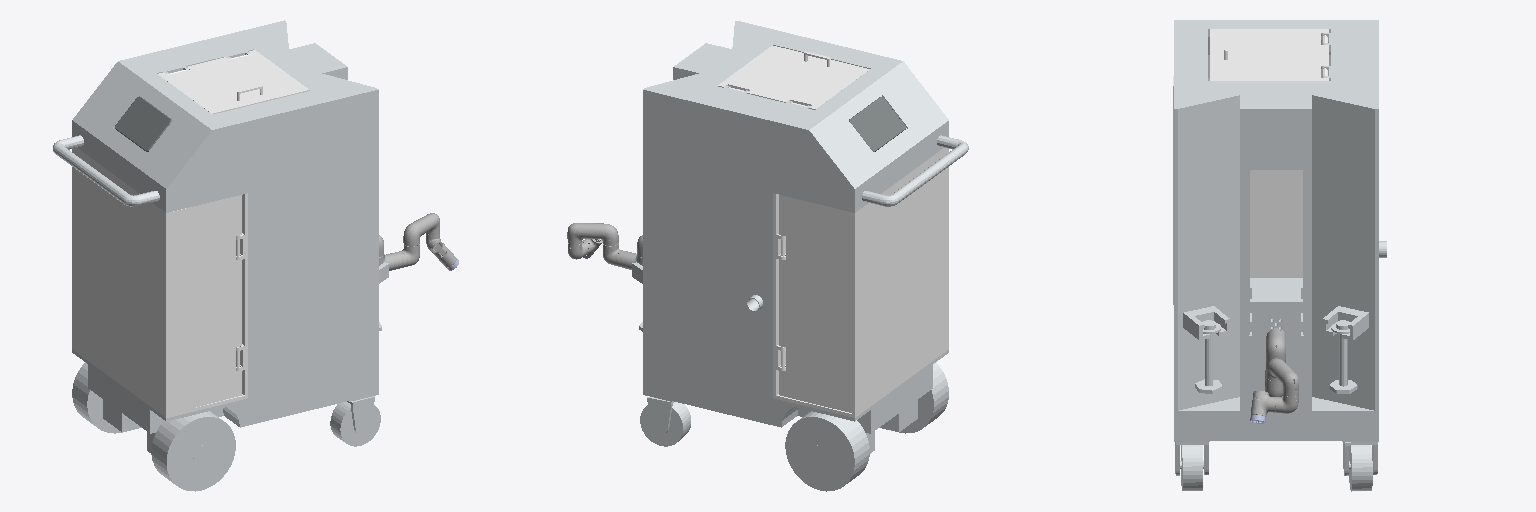
--- Facts derived from the render (not from the file) ---
3 views of the same robot in one strip: view 1: azimuth 30°, elevation 25°; view 2: azimuth 150°, elevation 25°; view 3: azimuth 270°, elevation 25° (orthographic).
Robot: trolley_arm_description — 30 links, 29 joints (6 revolute, 1 continuous, 1 prismatic, 21 fixed); root link base_footprint; default pose: all joints at 0.
Visible links, largest first — view 1: surrounding-frame, door-2, compartment-2, compartment-1, base_link, cover-door, back_wheel_2, tablet, handle, back_wheel_1, front_wheel_1, guiding_frame-2 (+4 smaller); view 2: surrounding-frame, door-1, compartment-1, compartment-2, base_link, cover-door, back_wheel_1, tablet, handle, back_wheel_2, guiding_frame-2, front_wheel_2 (+4 smaller); view 3: surrounding-frame, guiding_frame-2, base_link, cover-door, tools, mount-box, compartment-1, compartment-2, front_wheel_2, front_wheel_1, j3, j1.
Boxes of the visible links, left/top/right/bottom form: surrounding-frame: left=72, top=20, right=378, bottom=397; door-2: left=170, top=195, right=241, bottom=413; compartment-2: left=119, top=179, right=247, bottom=417; compartment-1: left=72, top=148, right=118, bottom=382; base_link: left=72, top=349, right=378, bottom=433; cover-door: left=158, top=50, right=309, bottom=113; back_wheel_2: left=151, top=411, right=235, bottom=491; tablet: left=115, top=96, right=171, bottom=151; handle: left=53, top=135, right=159, bottom=206; back_wheel_1: left=72, top=362, right=121, bottom=433; front_wheel_1: left=330, top=402, right=380, bottom=446; guiding_frame-2: left=283, top=43, right=347, bottom=79; surrounding-frame: left=643, top=21, right=948, bottom=397; door-1: left=779, top=195, right=851, bottom=412; compartment-1: left=773, top=179, right=901, bottom=417; compartment-2: left=902, top=148, right=948, bottom=382; base_link: left=643, top=350, right=948, bottom=433; cover-door: left=718, top=45, right=869, bottom=109; back_wheel_1: left=785, top=411, right=869, bottom=491; tablet: left=849, top=97, right=905, bottom=151; handle: left=862, top=135, right=968, bottom=206; back_wheel_2: left=899, top=363, right=948, bottom=433; guiding_frame-2: left=673, top=43, right=737, bottom=79; front_wheel_2: left=640, top=402, right=690, bottom=446; surrounding-frame: left=1174, top=20, right=1386, bottom=410; guiding_frame-2: left=1240, top=92, right=1311, bottom=410; base_link: left=1174, top=397, right=1378, bottom=440; cover-door: left=1210, top=29, right=1328, bottom=80; tools: left=1183, top=306, right=1368, bottom=393; mount-box: left=1249, top=285, right=1303, bottom=346; compartment-1: left=1276, top=170, right=1302, bottom=277; compartment-2: left=1208, top=78, right=1275, bottom=277; front_wheel_2: left=1349, top=445, right=1372, bottom=491; front_wheel_1: left=1175, top=445, right=1203, bottom=490; j3: left=1266, top=358, right=1298, bottom=396; j1: left=1266, top=328, right=1285, bottom=362.
Bounding box of the posed robot: 1.11 × 0.5217 × 1.07 m (x, y, z).
28 mesh visuals loaded from 29 distinct referenced files (28 binary STL); not drawn: 1 (reference not matched to a file when rendering).

robot.urdf — trolley_arm_description:
<?xml version="1.0" ?>
<!-- =================================================================================== -->
<!-- |    This document was autogenerated by xacro from [local-path]/Developer/ros_workspaces/hivebot_ws/src/trolley_arm_description/urdf/trolley_arm.urdf.xacro | -->
<!-- |    EDITING THIS FILE BY HAND IS NOT RECOMMENDED                                 | -->
<!-- =================================================================================== -->
<robot name="trolley_arm_description">
    <link name="base_footprint" />
    <joint name="base_joint" type="fixed">
        <origin rpy="0 0 0" xyz="0 0 0.05" />
        <parent link="base_footprint" />
        <child link="base_link" />
    </joint>
    <link name="base_link">

        <inertial>
            <origin rpy="0 0 0" xyz="0.0235732763735559 -1.16156711654192E-16 -0.0393476182287232" />
            <mass value="63.3540430981409" />
            <inertia ixx="1.19803483723971" ixy="3.94354928014663E-16" ixz="0.00926065111324139" iyy="2.11869396240118" iyz="2.70482966665085E-18" izz="3.24789298834746" />
        </inertial>

        <visual>
            <origin rpy="0 0 0" xyz="0 0 0" />
            <geometry>
                <mesh filename="package://hivebot_trolley/meshes/base_link.STL" />
            </geometry>
            <material name="">
                <color rgba="0.898039215686275 0.917647058823529 0.929411764705882 1" />
            </material>
        </visual>
        <collision>
            <origin rpy="0 0 0" xyz="0 0 0" />
            <geometry>
                <mesh filename="package://hivebot_trolley/meshes/base_link.STL" />
            </geometry>
        </collision>
    </link>
    <joint name="compartment-2-to-base" type="fixed">
        <origin rpy="0 0 0" xyz="-0.2 -0.125 0" />
        <parent link="base_link" />
        <child link="compartment-2" />
        <axis xyz="0 0 0" />
    </joint>
    <link name="front_wheel_mount_plate_1">

        <inertial>
            <origin rpy="0 0 0" xyz="0 0 0.00372376098180309" />
            <mass value="0.0885122104446696" />
            <inertia ixx="4.96589186338358E-05" ixy="8.76460525250229E-21" ixz="4.57370748529084E-22" iyy="4.96589186338358E-05" iyz="-1.38813531491213E-23" izz="9.88794947001013E-05" />
        </inertial>

        <visual>
            <origin rpy="0 0 0" xyz="0 0 0" />
            <geometry>
                <mesh filename="package://hivebot_trolley/meshes/front_wheel_mount_plate_1.STL" />
            </geometry>
            <material name="">
                <color rgba="0.898039215686275 0.917647058823529 0.929411764705882 1" />
            </material>
        </visual>
        <collision>
            <origin rpy="0 0 0" xyz="0 0 0" />
            <geometry>
                <mesh filename="package://hivebot_trolley/meshes/front_wheel_mount_plate_1.STL" />
            </geometry>
        </collision>
    </link>
    <joint name="front_wheel_mount_plate_1_tobase" type="fixed">
        <origin rpy="0 0 0" xyz="0.28 -0.205 -0.086" />
        <parent link="base_link" />
        <child link="front_wheel_mount_plate_1" />
        <axis xyz="0 0 0" />
    </joint>
    <link name="front_wheel_holder_1">

        <inertial>
            <origin rpy="0 0 0" xyz="0 -5.55111512312578E-17 -0.0353498305391301" />
            <mass value="0.40765592096642" />
            <inertia ixx="0.000762776791330026" ixy="1.03138220220553E-05" ixz="6.91311896835273E-20" iyy="0.000501675770186767" iyz="-1.75192826322455E-19" izz="0.000528106575482838" />
        </inertial>

        <visual>
            <origin rpy="0 0 0" xyz="0 0 0" />
            <geometry>
                <mesh filename="package://hivebot_trolley/meshes/front_wheel_holder_1.STL" />
            </geometry>
            <material name="">
                <color rgba="0.898039215686275 0.917647058823529 0.929411764705882 1" />
            </material>
        </visual>
        <collision>
            <origin rpy="0 0 0" xyz="0 0 0" />
            <geometry>
                <mesh filename="package://hivebot_trolley/meshes/front_wheel_holder_1.STL" />
            </geometry>
        </collision>
    </link>
    <joint name="front_wheel_holder_1_toplate" type="fixed">
        <origin rpy="0 0 0" xyz="0 0 0" />
        <parent link="front_wheel_mount_plate_1" />
        <child link="front_wheel_holder_1" />
        <axis xyz="0 0 -1" />
    </joint>
    <link name="front_wheel_1">

        <inertial>
            <origin rpy="0 0 0" xyz="5.55111512312578E-17 8.32667268468867E-17 -5.55111512312578E-17" />
            <mass value="1.73558464244813" />
            <inertia ixx="0.00211027858785498" ixy="-5.2803822366633E-05" ixz="1.94419187005969E-19" iyy="0.00344704122644933" iyz="-2.97963645002492E-19" izz="0.00210819601428248" />
        </inertial>

        <visual>
            <origin rpy="0 0 0" xyz="0 0 0" />
            <geometry>
                <mesh filename="package://hivebot_trolley/meshes/front_wheel_1.STL" />
            </geometry>
            <material name="">
                <color rgba="0.898039215686275 0.917647058823529 0.929411764705882 1" />
            </material>
        </visual>
        <collision>
            <origin rpy="0 0 0" xyz="0 0 0" />
            <geometry>
                <mesh filename="package://hivebot_trolley/meshes/front_wheel_1.STL" />
            </geometry>
        </collision>
    </link>
    <joint name="front_wheel_1_to_holder" type="fixed">
        <origin rpy="0 0 0" xyz="0 0 -0.081" />
        <parent link="front_wheel_holder_1" />
        <child link="front_wheel_1" />
        <axis xyz="-0.0394091875345171 0.99922315622581 0" />
    </joint>
    <link name="front_wheel_mount_plate_2">

        <inertial>
            <origin rpy="0 0 0" xyz="0 -2.77555756156289E-17 0.00372376098180309" />
            <mass value="0.0885122104446697" />
            <inertia ixx="4.96589186338359E-05" ixy="1.33252491072572E-20" ixz="1.0447510163914E-22" iyy="4.96589186338359E-05" iyz="6.3556804032152E-22" izz="9.88794947001014E-05" />
        </inertial>

        <visual>
            <origin rpy="0 0 0" xyz="0 0 0" />
            <geometry>
                <mesh filename="package://hivebot_trolley/meshes/front_wheel_mount_plate_2.STL" />
            </geometry>
            <material name="">
                <color rgba="0.898039215686275 0.917647058823529 0.929411764705882 1" />
            </material>
        </visual>
        <collision>
            <origin rpy="0 0 0" xyz="0 0 0" />
            <geometry>
                <mesh filename="package://hivebot_trolley/meshes/front_wheel_mount_plate_2.STL" />
            </geometry>
        </collision>
    </link>
    <joint name="front_wheel_mount_plate_2_tobase" type="fixed">
        <origin rpy="0 0 0" xyz="0.28 0.205 -0.086" />
        <parent link="base_link" />
        <child link="front_wheel_mount_plate_2" />
        <axis xyz="0 0 0" />
    </joint>
    <link name="front_wheel_holder_2">

        <inertial>
            <origin rpy="0 0 0" xyz="-5.55111512312578E-17 -5.55111512312578E-17 -0.0353498305391302" />
            <mass value="0.40765592096642" />
            <inertia ixx="0.00076152629456158" ixy="2.07681767546495E-05" ixz="-6.15417341469107E-20" iyy="0.000502926266955213" iyz="3.73082590857221E-19" izz="0.000528106575482838" />
        </inertial>

        <visual>
            <origin rpy="0 0 0" xyz="0 0 0" />
            <geometry>
                <mesh filename="package://hivebot_trolley/meshes/front_wheel_holder_2.STL" />
            </geometry>
            <material name="">
                <color rgba="0.898039215686275 0.917647058823529 0.929411764705882 1" />
            </material>
        </visual>
        <collision>
            <origin rpy="0 0 0" xyz="0 0 0" />
            <geometry>
                <mesh filename="package://hivebot_trolley/meshes/front_wheel_holder_2.STL" />
            </geometry>
        </collision>
    </link>
    <joint name="front_wheel_holder_2_toplate" type="fixed">
        <origin rpy="0 0 0" xyz="0 0 0" />
        <parent link="front_wheel_mount_plate_2" />
        <child link="front_wheel_holder_2" />
        <axis xyz="0 0 -1" />
    </joint>
    <link name="front_wheel_2">

        <inertial>
            <origin rpy="0 0 0" xyz="5.55111512312578E-17 0 0" />
            <mass value="1.73558464244813" />
            <inertia ixx="0.00211668077407555" ixy="-0.000106327132064745" ixz="-2.97271341358694E-19" iyy="0.00344063904022875" iyz="-1.72056927832268E-21" izz="0.00210819601428248" />
        </inertial>

        <visual>
            <origin rpy="0 0 0" xyz="0 0 0" />
            <geometry>
                <mesh filename="package://hivebot_trolley/meshes/front_wheel_2.STL" />
            </geometry>
            <material name="">
                <color rgba="0.898039215686275 0.917647058823529 0.929411764705882 1" />
            </material>
        </visual>
        <collision>
            <origin rpy="0 0 0" xyz="0 0 0" />
            <geometry>
                <mesh filename="package://hivebot_trolley/meshes/front_wheel_2.STL" />
            </geometry>
        </collision>
    </link>
    <joint name="front_wheel_2_toholder" type="fixed">
        <origin rpy="0 0 0" xyz="0 0 -0.081" />
        <parent link="front_wheel_holder_2" />
        <child link="front_wheel_2" />
        <axis xyz="0.0795457683033873 -0.996831214772603 0" />
    </joint>
    <link name="back_wheel_holder_2">

        <inertial>
            <origin rpy="0 0 0" xyz="-2.77555756156289E-17 0.12370581952403 2.77555756156289E-17" />
            <mass value="3.69062219624929" />
            <inertia ixx="0.00912658772080383" ixy="8.63502453250557E-19" ixz="-5.57023878196132E-19" iyy="0.00672881943632791" iyz="-2.81940192519475E-19" izz="0.0103145877208038" />
        </inertial>

        <visual>
            <origin rpy="0 0 0" xyz="0 0 0" />
            <geometry>
                <mesh filename="package://hivebot_trolley/meshes/back_wheel_holder_2.STL" />
            </geometry>
            <material name="">
                <color rgba="0.898039215686275 0.917647058823529 0.929411764705882 1" />
            </material>
        </visual>
        <collision>
            <origin rpy="0 0 0" xyz="0 0 0" />
            <geometry>
                <mesh filename="package://hivebot_trolley/meshes/back_wheel_holder_2.STL" />
            </geometry>
        </collision>
    </link>
    <joint name="back_wheel_holder_2_tobase" type="fixed">
        <origin rpy="0 0 0" xyz="-0.2185 -0.25 -0.13" />
        <parent link="base_link" />
        <child link="back_wheel_holder_2" />
        <axis xyz="0 0 0" />
    </joint>
    <link name="back_wheel_2">

        <inertial>
            <origin rpy="0 0 0" xyz="-5.55111512312578E-17 0.0399999999999996 4.16333634234434E-16" />
            <mass value="7.27255451520401" />
            <inertia ixx="0.0256368152469609" ixy="-3.1162102280413E-18" ixz="-1.17965325757309E-22" iyy="0.0435162390110376" iyz="2.68645908030935E-18" izz="0.0256368152469609" />
        </inertial>

        <visual>
            <origin rpy="0 0 0" xyz="0 0 0" />
            <geometry>
                <mesh filename="package://hivebot_trolley/meshes/back_wheel_2.STL" />
            </geometry>
            <material name="">
                <color rgba="0.898039215686275 0.917647058823529 0.929411764705882 1" />
            </material>
        </visual>
        <collision>
            <origin rpy="0 0 0" xyz="0 0 0" />
            <geometry>
                <mesh filename="package://hivebot_trolley/meshes/back_wheel_2.STL" />
            </geometry>
        </collision>
    </link>
    <joint name="back_wheel_2_toholder" type="fixed">
        <origin rpy="0 0 0" xyz="0 0 0" />
        <parent link="back_wheel_holder_2" />
        <child link="back_wheel_2" />
        <axis xyz="0 1 0" />
    </joint>
    <link name="back_wheel_holder_1">

        <inertial>
            <origin rpy="0 0 0" xyz="2.77555756156289E-17 -0.12370581952403 -2.77555756156289E-17" />
            <mass value="3.69062219624929" />
            <inertia ixx="0.00912658772080382" ixy="-5.58383894595012E-19" ixz="8.67342168411457E-19" iyy="0.00672881943632791" iyz="6.69411038953511E-20" izz="0.0103145877208038" />
        </inertial>

        <visual>
            <origin rpy="0 0 0" xyz="0 0 0" />
            <geometry>
                <mesh filename="package://hivebot_trolley/meshes/back_wheel_holder_1.STL" />
            </geometry>
            <material name="">
                <color rgba="0.898039215686275 0.917647058823529 0.929411764705882 1" />
            </material>
        </visual>
        <collision>
            <origin rpy="0 0 0" xyz="0 0 0" />
            <geometry>
                <mesh filename="package://hivebot_trolley/meshes/back_wheel_holder_1.STL" />
            </geometry>
        </collision>
    </link>
    <joint name="back_wheel_holder_1_tobase" type="fixed">
        <origin rpy="0 0 0" xyz="-0.2185 0.25 -0.13" />
        <parent link="base_link" />
        <child link="back_wheel_holder_1" />
        <axis xyz="0 0 0" />
    </joint>
    <link name="back_wheel_1">

        <inertial>
            <origin rpy="0 0 0" xyz="-5.55111512312578E-17 -0.04 0" />
            <mass value="7.27255451520401" />
            <inertia ixx="0.0256368152469609" ixy="-2.25459743055601E-18" ixz="1.57683124065269E-19" iyy="0.0435162390110376" iyz="4.84744605090424E-18" izz="0.0256368152469609" />
        </inertial>

        <visual>
            <origin rpy="0 0 0" xyz="0 0 0" />
            <geometry>
                <mesh filename="package://hivebot_trolley/meshes/back_wheel_1.STL" />
            </geometry>
            <material name="">
                <color rgba="0.898039215686275 0.917647058823529 0.929411764705882 1" />
            </material>
        </visual>
        <collision>
            <origin rpy="0 0 0" xyz="0 0 0" />
            <geometry>
                <mesh filename="package://hivebot_trolley/meshes/back_wheel_1.STL" />
            </geometry>
        </collision>
    </link>
    <joint name="back_wheel_1_toholder" type="continuous">
        <origin rpy="0 0 0" xyz="0 0 0" />
        <parent link="back_wheel_holder_1" />
        <child link="back_wheel_1" />
        <axis xyz="0 -1 0" />
        <dynamics damping="0.7" friction="10"/>
    </joint>
    <link name="guiding_frame-2">

        <inertial>
            <origin rpy="0 0 0" xyz="5.55111512312578E-17 -1.36557830061531E-16 -0.52082343378767" />
            <mass value="15.546168" />
            <inertia ixx="1.04667928751446" ixy="-1.21627735877006E-18" ixz="9.73209658663459E-17" iyy="0.99672874017046" iyz="1.5679887871354E-16" izz="0.076308340032" />
        </inertial>

        <visual>
            <origin rpy="0 0 0" xyz="0 0 0" />
            <geometry>
                <mesh filename="package://hivebot_trolley/meshes/guiding_frame-2.STL" />
            </geometry>
            <material name="">
                <color rgba="0.898039215686275 0.917647058823529 0.929411764705882 1" />
            </material>
        </visual>
        <collision>
            <origin rpy="0 0 0" xyz="0 0 0" />
            <geometry>
                <mesh filename="package://hivebot_trolley/meshes/guiding_frame-2.STL" />
            </geometry>
        </collision>
    </link>
    <joint name="guiding-frame-2-tobase" type="fixed">
        <origin rpy="0 0 0" xyz="0.275 0 0.81" />
        <parent link="base_link" />
        <child link="guiding_frame-2" />
        <axis xyz="0 0 0" />
    </joint>
    <link name="mount-box">

        <inertial>
            <origin rpy="0 0 0" xyz="-3.33066907387547E-16 -5.43166688588743E-17 8.31973379078477E-13" />
            <mass value="3.88364559868246" />
            <inertia ixx="0.00932475709657866" ixy="-3.73105112956337E-19" ixz="-7.61186554870903E-19" iyy="0.00785069349852472" iyz="3.77869461474261E-19" izz="0.00784612520652471" />
        </inertial>

        <visual>
            <origin rpy="0 0 0" xyz="0 0 0" />
            <geometry>
                <mesh filename="package://hivebot_trolley/meshes/mount-box.STL" />
            </geometry>
            <material name="">
                <color rgba="0.898039215686275 0.917647058823529 0.929411764705882 1" />
            </material>
        </visual>
        <collision>
            <origin rpy="0 0 0" xyz="0 0 0" />
            <geometry>
                <mesh filename="package://hivebot_trolley/meshes/mount-box.STL" />
            </geometry>
        </collision>
    </link>
    <joint name="mount_box_to_frame" type="prismatic">
        <origin rpy="0 0 0" xyz="0 0 -0.57843375382" />
        <parent link="guiding_frame-2" />
        <child link="mount-box" />
        <axis xyz="0 0 1" />
        <limit effort="100" lower="0" upper="0.48" velocity="1" />
        <dynamics damping="0.7" friction="10"/>
    </joint>
    <link name="surrounding-frame">

        <inertial>
            <origin rpy="0 0 0" xyz="0.0846729181735194 0.000767773564878785 0.214525253910696" />
            <mass value="82.7476434299921" />
            <inertia ixx="3.78200016445154" ixy="-0.00222325591596084" ixz="-0.0201090148476572" iyy="3.39224065150316" iyz="-0.00236895559099694" izz="1.86426383436205" />
        </inertial>

        <visual>
            <origin rpy="0 0 0" xyz="0 0 0" />
            <geometry>
                <mesh filename="package://hivebot_trolley/meshes/surrounding-frame.STL" />
            </geometry>
            <material name="">
                <color rgba="0.898039215686275 0.917647058823529 0.929411764705882 1" />
            </material>
        </visual>
        <collision>
            <origin rpy="0 0 0" xyz="0 0 0" />
            <geometry>
                <mesh filename="package://hivebot_trolley/meshes/surrounding-frame.STL" />
            </geometry>
        </collision>
    </link>
    <joint name="surrounding-frame-to-base" type="fixed">
        <origin rpy="0 0 0" xyz="0.0749999999999998 0 0.16" />
        <parent link="base_link" />
        <child link="surrounding-frame" />
        <axis xyz="0 0 0" />
    </joint>
    <link name="cover-door">

        <inertial>
            <origin rpy="0 0 0" xyz="-0.150040997767576 -0.137889670402826 0.000346830907110185" />
            <mass value="2.05892920065877" />
            <inertia ixx="0.0140981800413022" ixy="-8.61535975977684E-06" ixz="2.2775979768361E-06" iyy="0.0153884352208601" iyz="4.71234485426862E-05" izz="0.0293377145153787" />
        </inertial>

        <visual>
            <origin rpy="0 0 0" xyz="0 0 0" />
            <geometry>
                <mesh filename="package://hivebot_trolley/meshes/cover-door.STL" />
            </geometry>
            <material name="">
                <color rgba="1 1 1 0.3" />
            </material>
        </visual>
        <collision>
            <origin rpy="0 0 0" xyz="0 0 0" />
            <geometry>
                <mesh filename="package://hivebot_trolley/meshes/cover-door.STL" />
            </geometry>
        </collision>
    </link>
    <joint name="cover-door-to-frame" type="fixed">
        <origin rpy="0 0 0" xyz="0.0899999999999999 0.118551612567476 0.64" />
        <parent link="surrounding-frame" />
        <child link="cover-door" />
        <axis xyz="-1 0 0" />
    </joint>
    <link name="tablet">

        <inertial>
            <origin rpy="0 0 0" xyz="-0.00212538959044117 -1.36883635898138E-05 0.00206874607906293" />
            <mass value="0.886766298135032" />
            <inertia ixx="0.00278972059920181" ixy="1.27724561345949E-07" ixz="-0.000432117490733407" iyy="0.000869274675297478" iyz="1.28403830937449E-07" izz="0.00278929527162149" />
        </inertial>

        <visual>
            <origin rpy="0 0 0" xyz="0 0 0" />
            <geometry>
                <mesh filename="package://hivebot_trolley/meshes/tablet.STL" />
            </geometry>
            <material name="">
                <color rgba="0.529411764705882 0.549019607843137 0.549019607843137 1" />
            </material>
        </visual>
        <collision>
            <origin rpy="0 0 0" xyz="0 0 0" />
            <geometry>
                <mesh filename="package://hivebot_trolley/meshes/tablet.STL" />
            </geometry>
        </collision>
    </link>
    <joint name="tablet-to-frame" type="fixed">
        <origin rpy="0 0 0" xyz="-0.323639610306789 0.001 0.579289321881345" />
        <parent link="surrounding-frame" />
        <child link="tablet" />
        <axis xyz="0 0 0" />
    </joint>
    <link name="handle">

        <inertial>
            <origin rpy="0 0 0" xyz="-0.0683128872678795 0.2 0" />
            <mass value="1.03600411126002" />
            <inertia ixx="0.0211986755913615" ixy="-3.76213226232454E-18" ixz="5.2805489928396E-20" iyy="0.000609084661143678" iyz="-5.58622665846924E-19" izz="0.0216912097899884" />
        </inertial>

        <visual>
            <origin rpy="0 0 0" xyz="0 0 0" />
            <geometry>
                <mesh filename="package://hivebot_trolley/meshes/handle.STL" />
            </geometry>
            <material name="">
                <color rgba="0.898039215686275 0.917647058823529 0.929411764705882 1" />
            </material>
        </visual>
        <collision>
            <origin rpy="0 0 0" xyz="0 0 0" />
            <geometry>
                <mesh filename="package://hivebot_trolley/meshes/handle.STL" />
            </geometry>
        </collision>
    </link>
    <joint name="handle-to-frame" type="fixed">
        <origin rpy="0 0 0" xyz="-0.4 -0.2 0.47" />
        <parent link="surrounding-frame" />
        <child link="handle" />
        <axis xyz="0 0 0" />
    </joint>
    <link name="tools">

        <inertial>
            <origin rpy="0 0 0" xyz="0.0135685512178612 -0.226707429071848 0.000429751102776738" />
            <mass value="1.10101723384343" />
            <inertia ixx="0.00181676017997894" ixy="-5.7000778196603E-19" ixz="2.91688343620181E-05" iyy="0.00170795242556321" iyz="-4.21950089664413E-19" izz="0.00133528189029824" />
        </inertial>

        <visual>
            <origin rpy="0 0 0" xyz="0 0 0" />
            <geometry>
                <mesh filename="package://hivebot_trolley/meshes/tools.STL" />
            </geometry>
            <material name="">
                <color rgba="0.898039215686275 0.917647058823529 0.929411764705882 1" />
            </material>
        </visual>
        <collision>
            <origin rpy="0 0 0" xyz="0 0 0" />
            <geometry>
                <mesh filename="package://hivebot_trolley/meshes/tools.STL" />
            </geometry>
        </collision>
    </link>
    <joint name="tools-to-frame" type="fixed">
        <origin rpy="0 0 0" xyz="0.243049636115999 0.226707429071858 0.0599999999999998" />
        <parent link="surrounding-frame" />
        <child link="tools" />
        <axis xyz="0 0 0" />
    </joint>
    <link name="compartment-1">

        <inertial>
            <origin rpy="0 0 0" xyz="0.0159462607609362 -0.00910725247573026 0.274676056153122" />
            <mass value="1.05739476651221" />
            <inertia ixx="0.033888709501066" ixy="1.08388147884056E-17" ixz="-1.95856102547443E-19" iyy="0.0369783137022633" iyz="0.000886251680853717" izz="0.0144797683018268" />
        </inertial>

        <visual>
            <origin rpy="0 0 0" xyz="0 0 0" />
            <geometry>
                <mesh filename="package://hivebot_trolley/meshes/compartment-1.STL" />
            </geometry>
            <material name="">
                <color rgba="1 1 1 1" />
            </material>
        </visual>
        <collision>
            <origin rpy="0 0 0" xyz="0 0 0" />
            <geometry>
                <mesh filename="package://hivebot_trolley/meshes/compartment-1.STL" />
            </geometry>
        </collision>
    </link>
    <joint name="compartment-1-tobase" type="fixed">
        <origin rpy="0 0 0" xyz="-0.2 0.125 0" />
        <parent link="base_link" />
        <child link="compartment-1" />
        <axis xyz="0 0 0" />
    </joint>
    <link name="door-1">

        <inertial>
            <origin rpy="0 0 0" xyz="-0.103829601822913 0.000286037081769358 0.295291950301883" />
            <mass value="0.209666054570214" />
            <inertia ixx="0.00608838595202948" ixy="2.38341449388362E-06" ixz="-6.35562463955881E-06" iyy="0.00695354335829767" iyz="1.75089212787349E-08" izz="0.000868657642586339" />
        </inertial>

        <visual>
            <origin rpy="0 0 0" xyz="0 0 0" />
            <geometry>
                <mesh filename="package://hivebot_trolley/meshes/door-1.STL" />
            </geometry>
            <material name="">
                <color rgba="1 1 1 1" />
            </material>
        </visual>
        <collision>
            <origin rpy="0 0 0" xyz="0 0 0" />
            <geometry>
                <mesh filename="package://hivebot_trolley/meshes/door-1.STL" />
            </geometry>
        </collision>
    </link>
    <joint name="door-1-to-compartment" type="fixed">
        <origin rpy="0 0 0" xyz="0.0999999999999994 0.115 0.00999999999999993" />
        <parent link="compartment-1" />
        <child link="door-1" />
        <axis xyz="0 0 1" />
    </joint>
    <link name="compartment-2">

        <inertial>
            <origin rpy="0 0 0" xyz="0.0159462607609365 0.00910725247573027 0.274676056153122" />
            <mass value="1.05739476651221" />
            <inertia ixx="0.033888709501066" ixy="1.20681831383722E-17" ixz="3.61843005233635E-18" iyy="0.0369783137022634" iyz="-0.000886251680853721" izz="0.0144797683018268" />
        </inertial>

        <visual>
            <origin rpy="0 0 0" xyz="0 0 0" />
            <geometry>
                <mesh filename="package://hivebot_trolley/meshes/compartment-2.STL" />
            </geometry>
            <material name="">
                <color rgba="1 1 1 1" />
            </material>
        </visual>
        <collision>
            <origin rpy="0 0 0" xyz="0 0 0" />
            <geometry>
                <mesh filename="package://hivebot_trolley/meshes/compartment-2.STL" />
            </geometry>
        </collision>
    </link>
    <link name="door-2">

        <inertial>
            <origin rpy="0 0 0" xyz="-0.103778785036784 -0.00326064536650364 0.295291950301883" />
            <mass value="0.209666054570215" />
            <inertia ixx="0.00608923261026625" ixy="-2.71561499219606E-05" ixz="-6.35251403899478E-06" iyy="0.00695269670006093" iyz="-1.99590845658357E-07" izz="0.000868657642586341" />
        </inertial>

        <visual>
            <origin rpy="0 0 0" xyz="0 0 0" />
            <geometry>
                <mesh filename="package://hivebot_trolley/meshes/door-2.STL" />
            </geometry>
            <material name="">
                <color rgba="1 1 1 1" />
            </material>
        </visual>
        <collision>
            <origin rpy="0 0 0" xyz="0 0 0" />
            <geometry>
                <mesh filename="package://hivebot_trolley/meshes/door-2.STL" />
            </geometry>
        </collision>
    </link>
    <joint name="door-2-to-compartment" type="fixed">
        <origin rpy="0 0 0" xyz="0.1 -0.115 0.00999999999999982" />
        <parent link="compartment-2" />
        <child link="door-2" />
        <axis xyz="0 0 1" />
    </joint>
    <link name="arm_base">

        <inertial>
            <origin rpy="0 0 0" xyz="-0.00314201374155656 -0.000316576969441296 0.0310618347596631" />
            <mass value="0.92353" />
            <inertia ixx="0.00084401" ixy="-7.3631E-06" ixz="1.4091E-06" iyy="0.00083129" iyz="-4.0382E-06" izz="0.0010931" />
        </inertial>

        <visual>
            <origin rpy="0 0 0" xyz="0 0 0" />
            <geometry>
                <mesh filename="package://mycobot_320/urdf/320_urdf/meshes/arm_base.STL" />
            </geometry>
            <material name="">
                <color rgba="0.752941176470588 0.752941176470588 0.752941176470588 1" />
            </material>
        </visual>
        <collision>
            <origin rpy="0 0 0" xyz="0 0 0" />
            <geometry>
                <mesh filename="package://mycobot_320/urdf/320_urdf/meshes/arm_base.STL" />
            </geometry>
        </collision>
    </link>
    <link name="j1">

        <inertial>
            <origin rpy="0 0 0" xyz="-4.65008859791595E-06 -0.00713845775566615 0.039058845834672" />
            <mass value="0.3331" />
            <inertia ixx="0.00029036" ixy="5.13E-08" ixz="-1.5737E-07" iyy="0.0002951" iyz="8.4643E-05" izz="0.00013646" />
        </inertial>

        <visual>
            <origin rpy="0 0 0" xyz="0 0 0" />
            <geometry>
                <mesh filename="package://mycobot_320/urdf/320_urdf/meshes/j1.STL" />
            </geometry>
            <material name="">
                <color rgba="0.752941176470588 0.752941176470588 0.752941176470588 1" />
            </material>
        </visual>
        <collision>
            <origin rpy="0 0 0" xyz="0 0 0" />
            <geometry>
                <mesh filename="package://mycobot_320/urdf/320_urdf/meshes/j1.STL" />
            </geometry>
        </collision>
    </link>
    <joint name="j1_to_base" type="revolute">
        <safety_controller k_position="100.0" k_velocity="40.0" soft_lower_limit="-2.8973" soft_upper_limit="2.8973"/>
        <origin rpy="0 0 1.5423" xyz="0 0 0.072677" />
        <parent link="arm_base" />
        <child link="j1" />
        <axis xyz="0 0 1" />
        <limit effort="87" lower="-2.97" upper="2.97" velocity="2.1750" />
        <dynamics damping="0.7" friction="10"/>
    </joint>
    <link name="j2">

        <inertial>
            <origin rpy="0 0 0" xyz="-0.0513897959483668 1.03416109062133E-07 0.0428557705148588" />
            <mass value="0.29389" />
            <inertia ixx="8.6708E-05" ixy="-4.9801E-08" ixz="-1.5666E-05" iyy="0.00070218" iyz="3.0907E-08" izz="0.0007426" />
        </inertial>

        <visual>
            <origin rpy="0 0 0" xyz="0 0 0" />
            <geometry>
                <mesh filename="package://mycobot_320/urdf/320_urdf/meshes/j2.STL" />
            </geometry>
            <material name="">
                <color rgba="0.752941176470588 0.752941176470588 0.752941176470588 1" />
            </material>
        </visual>
        <collision>
            <origin rpy="0 0 0" xyz="0 0 0" />
            <geometry>
                <mesh filename="package://mycobot_320/urdf/320_urdf/meshes/j2.STL" />
            </geometry>
        </collision>
    </link>
    <joint name="j2_to_j1" type="revolute">
        <safety_controller k_position="100.0" k_velocity="40.0" soft_lower_limit="-1.7628" soft_upper_limit="1.7628"/>
        <origin rpy="1.5708 1.5527 0" xyz="0 -0.0035666 0.06053" />
        <parent link="j1" />
        <child link="j2" />
        <axis xyz="0 0 1" />
        <limit effort="10" lower="-2.79" upper="2.79" velocity="3.14" />
        <dynamics damping="0.7" friction="10"/>
    </joint>
    <link name="j3">

        <inertial>
            <origin rpy="0 0 0" xyz="-0.0437220859914132 -1.2774481847333E-06 0.00135653065468257" />
            <mass value="0.41605" />
            <inertia ixx="0.00010682" ixy="-3.791E-08" ixz="-3.1585E-05" iyy="0.00075981" iyz="-1.9856E-08" izz="0.0007926" />
        </inertial>

        <visual>
            <origin rpy="0 0 0" xyz="0 0 0" />
            <geometry>
                <mesh filename="package://mycobot_320/urdf/320_urdf/meshes/j3.STL" />
            </geometry>
            <material name="">
                <color rgba="0.752941176470588 0.752941176470588 0.752941176470588 1" />
            </material>
        </visual>
        <collision>
            <origin rpy="0 0 0" xyz="0 0 0" />
            <geometry>
                <mesh filename="package://mycobot_320/urdf/320_urdf/meshes/j3.STL" />
            </geometry>
        </collision>
    </link>
    <joint name="j3_to_j2" type="revolute">
        <origin rpy="0 0 -0.43585" xyz="-0.1102 0 0" />
        <parent link="j2" />
        <child link="j3" />
        <axis xyz="0 0 1" />
        <limit effort="10" lower="-2.79" upper="2.79" velocity="1" />
        <dynamics damping="0.7" friction="10"/>
    </joint>
    <link name="j4">

        <inertial>
            <origin rpy="0 0 0" xyz="-1.40520224535812E-05 -0.0076816570577589 0.0230103540086662" />
            <mass value="0.18777" />
            <inertia ixx="7.2775E-05" ixy="-9.7964E-10" ixz="1.8973E-08" iyy="6.1005E-05" iyz="2.5828E-05" izz="6.0395E-05" />
        </inertial>

        <visual>
            <origin rpy="0 0 0" xyz="0 0 0" />
            <geometry>
                <mesh filename="package://mycobot_320/urdf/320_urdf/meshes/j4.STL" />
            </geometry>
            <material name="">
                <color rgba="0.752941176470588 0.752941176470588 0.752941176470588 1" />
            </material>
        </visual>
        <collision>
            <origin rpy="0 0 0" xyz="0 0 0" />
            <geometry>
                <mesh filename="package://mycobot_320/urdf/320_urdf/meshes/j4.STL" />
            </geometry>
        </collision>
    </link>
    <joint name="j4_to_j3" type="revolute">
        <origin rpy="0 0 0.56721" xyz="-0.096 0 0.027014" />
        <parent link="j3" />
        <child link="j4" />
        <axis xyz="0 0 1" />
        <limit effort="10" lower="-2.79" upper="2.79" velocity="1" />
        <dynamics damping="0.7" friction="10"/>
    </joint>
    <link name="j5">

        <inertial>
            <origin rpy="0 0 0" xyz="0.000112529211153511 0.00287540778498707 0.0396485032237697" />
            <mass value="0.22519" />
            <inertia ixx="0.00010227" ixy="-2.212E-07" ixz="-8.7613E-08" iyy="0.00010156" iyz="-2.3391E-05" izz="6.5009E-05" />
        </inertial>

        <visual>
            <origin rpy="0 0 0" xyz="0 0 0" />
            <geometry>
                <mesh filename="package://mycobot_320/urdf/320_urdf/meshes/j5.STL" />
            </geometry>
            <material name="">
                <color rgba="0.752941176470588 0.752941176470588 0.752941176470588 1" />
            </material>
        </visual>
        <collision>
            <origin rpy="0 0 0" xyz="0 0 0" />
            <geometry>
                <mesh filename="package://mycobot_320/urdf/320_urdf/meshes/j5.STL" />
            </geometry>
        </collision>
    </link>
    <joint name="j5_to_j4" type="revolute">
        <origin rpy="1.5708 -0.64832 0" xyz="0 -0.024124 0.033515" />
        <parent link="j4" />
        <child link="j5" />
        <axis xyz="0 0 1" />
        <limit effort="10" lower="-2.97" upper="2.97" velocity="1" />
        <dynamics damping="0.7" friction="10"/>
    </joint>
    <link name="j6">

        <inertial>
            <origin rpy="0 0 0" xyz="-1.18357394707225E-06 -3.05824490363232E-06 0.0305489098542017" />
            <mass value="0.060102" />
            <inertia ixx="6.5539E-06" ixy="5.8245E-13" ixz="4.1933E-10" iyy="6.5568E-06" iyz="-1.023E-09" izz="1.0571E-05" />
        </inertial>

        <visual>
            <origin rpy="0 0 0" xyz="0 0 0" />
            <geometry>
                <mesh filename="package://mycobot_320/urdf/320_urdf/meshes/j6.STL" />
            </geometry>
            <material name="">
                <color rgba="0.792156862745098 0.819607843137255 0.933333333333333 1" />
            </material>
        </visual>
        <collision>
            <origin rpy="0 0 0" xyz="0 0 0" />
            <geometry>
                <mesh filename="package://mycobot_320/urdf/320_urdf/meshes/j6.STL" />
            </geometry>
        </collision>
    </link>
    <joint name="j6_to_j5" type="revolute">
        <origin rpy="-1.5708 0.0010726 0" xyz="0 0.0096091 0.051625" />
        <parent link="j5" />
        <child link="j6" />
        <axis xyz="0 0 1" />
        <limit effort="10" lower="-3.05" upper="3.05" velocity="1" />
        <dynamics damping="0.7" friction="10"/>
    </joint>
    <joint name="world_joint" type="fixed">
        <parent link="mount-box" />
        <child link="arm_base" />
        <origin rpy="0 1.5707 0" xyz="0.05 0 0" />
    </joint>

    <!-- <transmission name="trans_front_wheel_1_to_holder">
        <type>transmission_interface/SimpleTransmission</type>
        <joint name="front_wheel_1_to_holder">
            <hardwareInterface>hardware_interface/EffortJointInterface</hardwareInterface>
        </joint>
        <actuator name="front_wheel_1_to_holder_motor">
            <hardwareInterface>hardware_interface/EffortJointInterface</hardwareInterface>
            <mechanicalReduction>1</mechanicalReduction>
        </actuator>
    </transmission>
    <transmission name="trans_front_wheel_holder_2_toplate">
        <type>transmission_interface/SimpleTransmission</type>
        <joint name="front_wheel_holder_2_toplate">
            <hardwareInterface>hardware_interface/EffortJointInterface</hardwareInterface>
        </joint>
        <actuator name="front_wheel_holder_2_toplate_motor">
            <hardwareInterface>hardware_interface/EffortJointInterface</hardwareInterface>
            <mechanicalReduction>1</mechanicalReduction>
        </actuator>
    </transmission>
    <transmission name="trans_front_wheel_2_toholder">
        <type>transmission_interface/SimpleTransmission</type>
        <joint name="front_wheel_2_toholder">
            <hardwareInterface>hardware_interface/EffortJointInterface</hardwareInterface>
        </joint>
        <actuator name="front_wheel_2_toholder_motor">
            <hardwareInterface>hardware_interface/EffortJointInterface</hardwareInterface>
            <mechanicalReduction>1</mechanicalReduction>
        </actuator>
    </transmission>
    <transmission name="trans_back_wheel_2_toholder">
        <type>transmission_interface/SimpleTransmission</type>
        <joint name="back_wheel_2_toholder">
            <hardwareInterface>hardware_interface/EffortJointInterface</hardwareInterface>
        </joint>
        <actuator name="back_wheel_2_toholder_motor">
            <hardwareInterface>hardware_interface/EffortJointInterface</hardwareInterface>
            <mechanicalReduction>1</mechanicalReduction>
        </actuator>
    </transmission>
    <transmission name="trans_back_wheel_1_toholder">
        <type>transmission_interface/SimpleTransmission</type>
        <joint name="back_wheel_1_toholder">
            <hardwareInterface>hardware_interface/EffortJointInterface</hardwareInterface>
        </joint>
        <actuator name="back_wheel_1_toholder_motor">
            <hardwareInterface>hardware_interface/EffortJointInterface</hardwareInterface>
            <mechanicalReduction>1</mechanicalReduction>
        </actuator>
    </transmission> -->
    <transmission name="trans_mount_box_to_frame">
        <type>transmission_interface/SimpleTransmission</type>
        <joint name="mount_box_to_frame">
            <hardwareInterface>hardware_interface/EffortJointInterface</hardwareInterface>
        </joint>
        <actuator name="mount_box_to_frame_motor">
            <hardwareInterface>hardware_interface/EffortJointInterface</hardwareInterface>
            <mechanicalReduction>1</mechanicalReduction>
        </actuator>
    </transmission>
    <transmission name="trans_j1_to_base">
        <type>transmission_interface/SimpleTransmission</type>
        <joint name="j1_to_base">
            <hardwareInterface>hardware_interface/EffortJointInterface</hardwareInterface>
        </joint>
        <actuator name="j1_to_base_motor">
            <hardwareInterface>hardware_interface/EffortJointInterface</hardwareInterface>
            <mechanicalReduction>1</mechanicalReduction>
        </actuator>
    </transmission>
    <transmission name="trans_j2_to_j1">
        <type>transmission_interface/SimpleTransmission</type>
        <joint name="j2_to_j1">
            <hardwareInterface>hardware_interface/EffortJointInterface</hardwareInterface>
        </joint>
        <actuator name="j2_to_j1_motor">
            <hardwareInterface>hardware_interface/EffortJointInterface</hardwareInterface>
            <mechanicalReduction>1</mechanicalReduction>
        </actuator>
    </transmission>
    <transmission name="trans_j3_to_j2">
        <type>transmission_interface/SimpleTransmission</type>
        <joint name="j3_to_j2">
            <hardwareInterface>hardware_interface/EffortJointInterface</hardwareInterface>
        </joint>
        <actuator name="j3_to_j2_motor">
            <hardwareInterface>hardware_interface/EffortJointInterface</hardwareInterface>
            <mechanicalReduction>1</mechanicalReduction>
        </actuator>
    </transmission>
    <transmission name="trans_j4_to_j3">
        <type>transmission_interface/SimpleTransmission</type>
        <joint name="j4_to_j3">
            <hardwareInterface>hardware_interface/EffortJointInterface</hardwareInterface>
        </joint>
        <actuator name="j4_to_j3_motor">
            <hardwareInterface>hardware_interface/EffortJointInterface</hardwareInterface>
            <mechanicalReduction>1</mechanicalReduction>
        </actuator>
    </transmission>
    <transmission name="trans_j5_to_j4">
        <type>transmission_interface/SimpleTransmission</type>
        <joint name="j5_to_j4">
            <hardwareInterface>hardware_interface/EffortJointInterface</hardwareInterface>
        </joint>
        <actuator name="j5_to_j4_motor">
            <hardwareInterface>hardware_interface/EffortJointInterface</hardwareInterface>
            <mechanicalReduction>1</mechanicalReduction>
        </actuator>
    </transmission>
    <transmission name="trans_j6_to_j5">
        <type>transmission_interface/SimpleTransmission</type>
        <joint name="j6_to_j5">
            <hardwareInterface>hardware_interface/EffortJointInterface</hardwareInterface>
        </joint>
        <actuator name="j6_to_j5_motor">
            <hardwareInterface>hardware_interface/EffortJointInterface</hardwareInterface>
            <mechanicalReduction>1</mechanicalReduction>
        </actuator>
    </transmission>
    <gazebo>
        <plugin name="gazebo_ros_control" filename="libgazebo_ros_control.so">
            <robotSimType>gazebo_ros_control/DefaultRobotHWSim</robotSimType>
        </plugin>
    </gazebo>
    <!-- <gazebo reference="j1_to_base">
        <kp>1000000.0</kp>
        <kd>100.0</kd>
        <mu1>30.0</mu1>
        <mu2>30.0</mu2>
        <dynamics damping="0.0" friction="0.0"/>
        <selfCollide>false</selfCollide>
        <turnGravityOff>false</turnGravityOff>
    </gazebo>
    <gazebo reference="mount_box_to_frame">
        <kp>1000000.0</kp>
        <kd>100.0</kd>
        <mu1>30.0</mu1>
        <mu2>30.0</mu2>
        <dynamics damping="0.0" friction="0.0"/>
        <selfCollide>false</selfCollide>
        <turnGravityOff>false</turnGravityOff>
    </gazebo>
    <gazebo reference="base_link">
        <dynamics damping="0.0" friction="0.0"/>
        <selfCollide>false</selfCollide>
        <turnGravityOff>false</turnGravityOff>
    </gazebo>
    <gazebo reference="j2_to_j1">
        <kp>1000000.0</kp>
        <kd>100.0</kd>
        <mu1>30.0</mu1>
        <mu2>30.0</mu2>
        <dynamics damping="0.0" friction="0.0"/>
        <selfCollide>false</selfCollide>
        <turnGravityOff>false</turnGravityOff>
    </gazebo>
    <gazebo reference="j2_to_j1">
        <kp>1000000.0</kp>
        <kd>100.0</kd>
        <mu1>30.0</mu1>
        <mu2>30.0</mu2>
        <dynamics damping="0.0" friction="0.0"/>
        <selfCollide>false</selfCollide>
        <turnGravityOff>false</turnGravityOff>
    </gazebo>
    <gazebo reference="j3_to_j2">
        <kp>1000000.0</kp>
        <kd>100.0</kd>
        <mu1>30.0</mu1>
        <mu2>30.0</mu2>
        <dynamics damping="0.0" friction="0.0"/>
        <selfCollide>false</selfCollide>
        <turnGravityOff>false</turnGravityOff>
    </gazebo>
    <gazebo reference="j4_to_j3">
        <kp>1000000.0</kp>
        <kd>100.0</kd>
        <mu1>30.0</mu1>
        <mu2>30.0</mu2>
        <dynamics damping="0.0" friction="0.0"/>
        <selfCollide>false</selfCollide>
        <turnGravityOff>false</turnGravityOff>
    </gazebo>
    <gazebo reference="j5_to_j4">
        <kp>1000000.0</kp>
        <kd>100.0</kd>
        <mu1>30.0</mu1>
        <mu2>30.0</mu2>
        <dynamics damping="0.0" friction="0.0"/>
        <selfCollide>false</selfCollide>
        <turnGravityOff>false</turnGravityOff>
    </gazebo>
    <gazebo reference="j6_to_j5">
        <kp>1000000.0</kp>
        <kd>100.0</kd>
        <mu1>30.0</mu1>
        <mu2>30.0</mu2>
        <dynamics damping="0.0" friction="0.0"/>
        <selfCollide>false</selfCollide>
        <turnGravityOff>false</turnGravityOff>
    </gazebo> -->
</robot>
